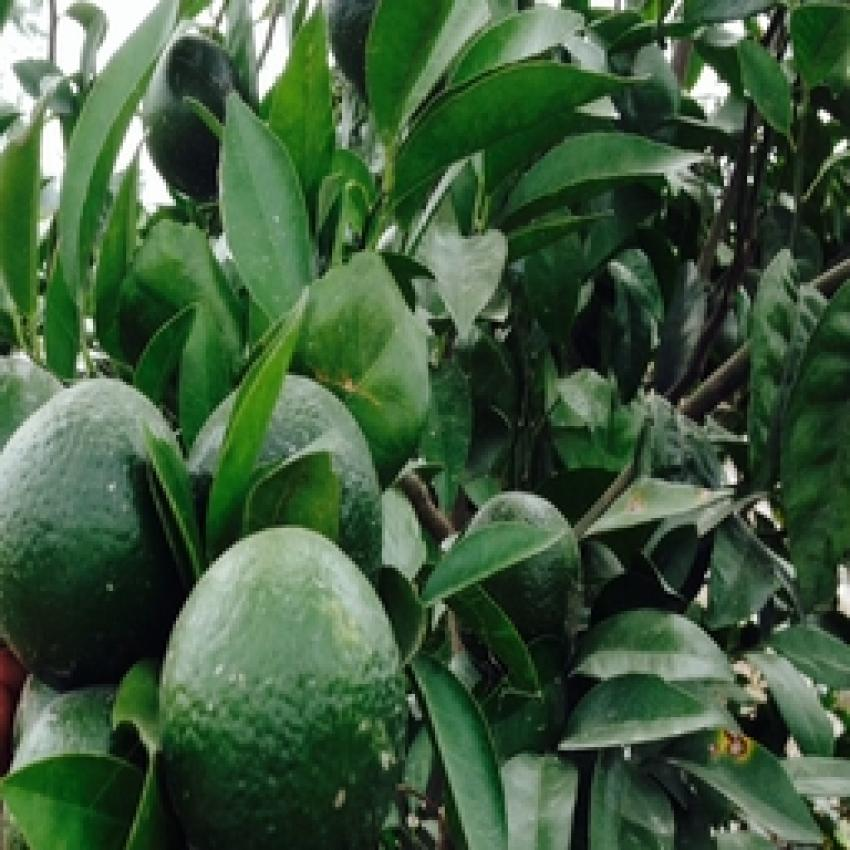Mal estado: (157, 524, 414, 822), (0, 370, 215, 685), (179, 364, 424, 589)
